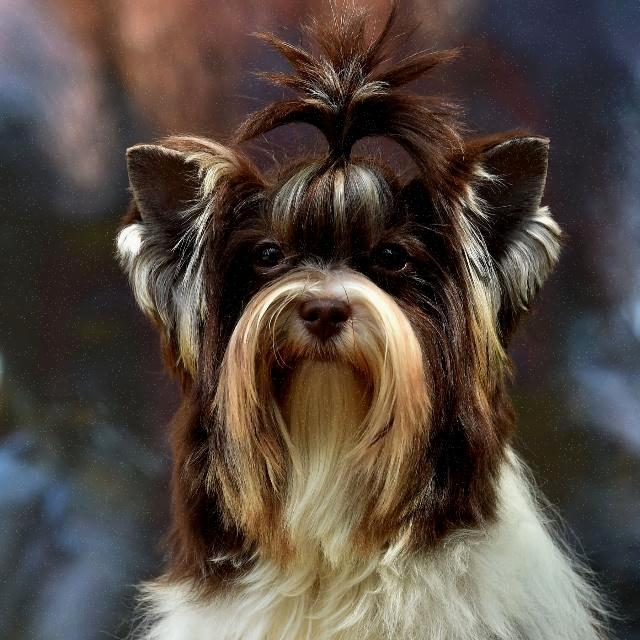dog: (89, 91, 586, 483)
